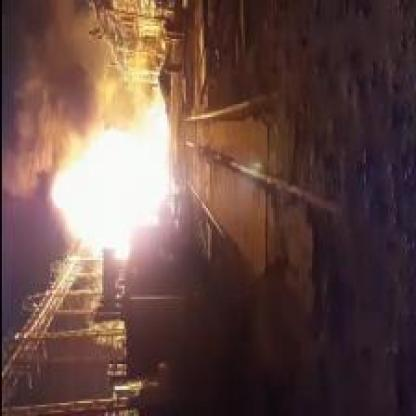Fire: (50, 107, 169, 259)
